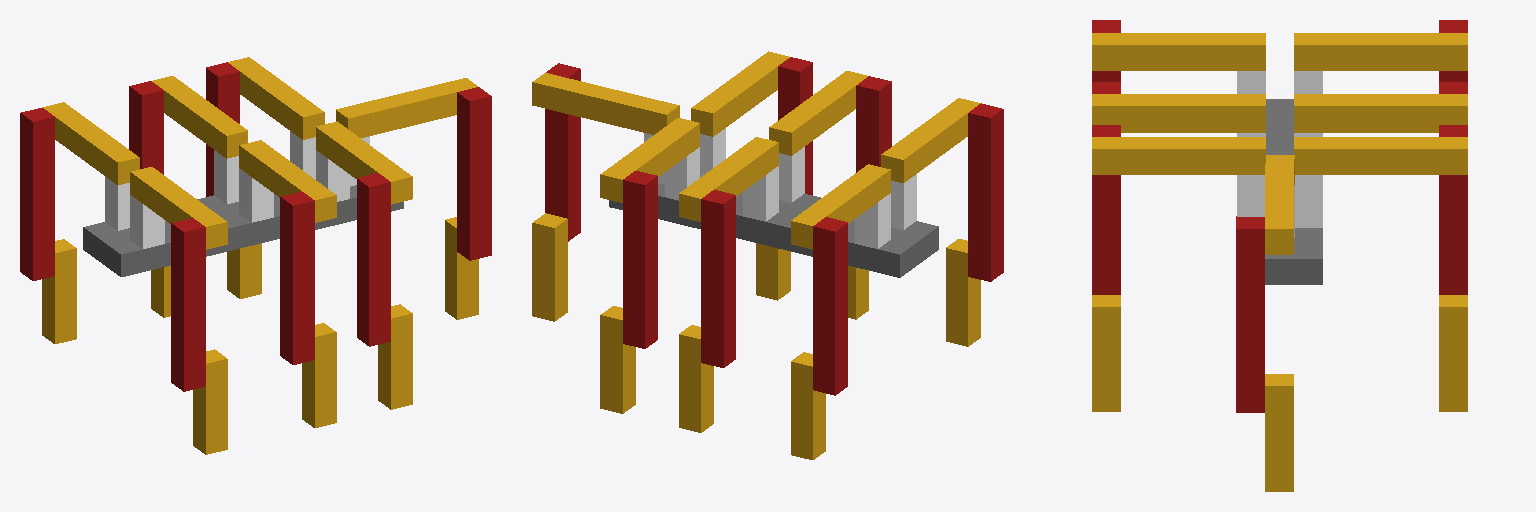
URDF robot description (v0):
<?xml version="1.0" encoding="utf-8"?>
<!-- =================================================================================== -->
<!-- |    This document was autogenerated by xacro from v0Seven.urdf.xacro             | -->
<!-- |    EDITING THIS FILE BY HAND IS NOT RECOMMENDED                                 | -->
<!-- =================================================================================== -->
<robot name="v0">
  <material name="grey">
    <color rgba="0.5 0.5 0.5 1"/>
  </material>
  <material name="white">
    <color rgba="1 1 1 1"/>
  </material>
  <material name="yellow">
    <color rgba="0.91 0.7 0.14 1"/>
  </material>
  <material name="red">
    <color rgba="0.71 0.14 0.14 1"/>
  </material>
  <link name="body">
    <visual>
      <geometry>
        <box size="1.3 0.3 0.1"/>
      </geometry>
      <material name="grey"/>
      <origin rpy="0 0 0" xyz="0 0 0.7"/>
    </visual>
    <collision>
      <geometry>
        <box size="1.3 0.3 0.1"/>
      </geometry>
      <origin rpy="0 0 0" xyz="0 0 0.7"/>
    </collision>
    <inertial>
      <mass value="99.84"/>
      <inertia ixx="0.832" ixy="0.0" ixz="0.0" iyy="14.144" iyz="0.0" izz="14.8096"/>
    </inertial>
  </link>
  <link name="l1_segment_1">
    <visual>
      <geometry>
        <box size="0.1 0.1 0.2"/>
      </geometry>
      <material name="white"/>
      <origin rpy="0 0 0" xyz="0 0 0.1"/>
    </visual>
    <collision>
      <geometry>
        <box size="0.1 0.1 0.2"/>
      </geometry>
      <origin rpy="0 0 0" xyz="0 0 0.1"/>
    </collision>
    <inertial>
      <mass value="5.12"/>
      <inertia ixx="0.0213333333333" ixy="0.0" ixz="0.0" iyy="0.0213333333333" iyz="0.0" izz="0.00853333333333"/>
    </inertial>
  </link>
  <joint name="l1_base_to_joint_1" type="fixed">
    <parent link="body"/>
    <child link="l1_segment_1"/>
    <origin rpy="0 0 0" xyz="0.35 0.1 .75"/>
  </joint>
  <link name="l1_segment_2_HIP">
    <visual>
      <geometry>
        <box size="0.1 0.6 0.1"/>
      </geometry>
      <material name="yellow"/>
      <origin rpy="0 0 0" xyz="0 0.25 0"/>
    </visual>
    <collision>
      <geometry>
        <box size="0.1 0.6 0.1"/>
      </geometry>
      <origin rpy="0 0 0" xyz="0 0.25 0"/>
    </collision>
    <inertial>
      <mass value="15.36"/>
      <inertia ixx="0.4736" ixy="0.0" ixz="0.0" iyy="0.0256" iyz="0.0" izz="0.4736"/>
    </inertial>
  </link>
  <joint name="l1_joint_1_to_2" type="revolute">
    <parent link="l1_segment_1"/>
    <child link="l1_segment_2_HIP"/>
    <origin rpy="0 0 0" xyz="0 0 0.25"/>
    <axis xyz="0.0 0.0 1.0"/>
    <limit effort="2048" lower="-1.2" upper="1.2" velocity="20"/>
  </joint>
  <link name="l1_segment_3_THIGH">
    <visual>
      <geometry>
        <box size="0.1 0.1 0.7"/>
      </geometry>
      <material name="red"/>
      <origin rpy="0 0 0" xyz="0 0 -0.3"/>
    </visual>
    <collision>
      <geometry>
        <box size="0.1 0.1 0.7"/>
      </geometry>
      <origin rpy="0 0 0" xyz="0 0 -0.3"/>
    </collision>
    <inertial>
      <mass value="17.92"/>
      <inertia ixx="0.746666666667" ixy="0.0" ixz="0.0" iyy="0.746666666667" iyz="0.0" izz="0.0298666666667"/>
    </inertial>
  </link>
  <joint name="l1_joint_2_to_3" type="revolute">
    <parent link="l1_segment_2_HIP"/>
    <child link="l1_segment_3_THIGH"/>
    <origin rpy="0 0 0" xyz="-0.1 0.5 0"/>
    <axis xyz="1.0 0.0 0.0"/>
    <limit effort="2048" lower="-0.2" upper="0.75" velocity="20"/>
  </joint>
  <link name="l1_segment_4_FOOT">
    <visual>
      <geometry>
        <box size="0.1 0.1 0.4"/>
      </geometry>
      <material name="yellow"/>
      <origin rpy="0 0 0" xyz="0 0 -0.2"/>
    </visual>
    <collision>
      <geometry>
        <box size="0.1 0.1 0.4"/>
      </geometry>
      <origin rpy="0 0 0" xyz="0 0 -0.2"/>
    </collision>
    <inertial>
      <mass value="10.24"/>
      <inertia ixx="0.145066666667" ixy="0.0" ixz="0.0" iyy="0.145066666667" iyz="0.0" izz="0.0170666666667"/>
    </inertial>
  </link>
  <joint name="l1_joint_3_to_4_FOOT" type="revolute">
    <parent link="l1_segment_3_THIGH"/>
    <child link="l1_segment_4_FOOT"/>
    <origin rpy="0 0 0" xyz="0.1 0 -0.55"/>
    <axis xyz="1.0 0.0 0.0"/>
    <limit effort="2048" lower="-0.2" upper="0.5" velocity="20"/>
  </joint>
  <link name="l2_segment_1">
    <visual>
      <geometry>
        <box size="0.1 0.1 0.2"/>
      </geometry>
      <material name="white"/>
      <origin rpy="0 0 0" xyz="0 0 0.1"/>
    </visual>
    <collision>
      <geometry>
        <box size="0.1 0.1 0.2"/>
      </geometry>
      <origin rpy="0 0 0" xyz="0 0 0.1"/>
    </collision>
    <inertial>
      <mass value="5.12"/>
      <inertia ixx="0.0213333333333" ixy="0.0" ixz="0.0" iyy="0.0213333333333" iyz="0.0" izz="0.00853333333333"/>
    </inertial>
  </link>
  <joint name="l2_base_to_joint_1" type="fixed">
    <parent link="body"/>
    <child link="l2_segment_1"/>
    <origin rpy="0 0 0" xyz="0 0.1 0.75"/>
  </joint>
  <link name="l2_segment_2_HIP">
    <visual>
      <geometry>
        <box size="0.1 0.6 0.1"/>
      </geometry>
      <material name="yellow"/>
      <origin rpy="0 0 0" xyz="0 0.25 0"/>
    </visual>
    <collision>
      <geometry>
        <box size="0.1 0.6 0.1"/>
      </geometry>
      <origin rpy="0 0 0" xyz="0 0.25 0"/>
    </collision>
    <inertial>
      <mass value="15.36"/>
      <inertia ixx="0.4736" ixy="0.0" ixz="0.0" iyy="0.0256" iyz="0.0" izz="0.4736"/>
    </inertial>
  </link>
  <joint name="l2_joint_1_to_2" type="revolute">
    <parent link="l2_segment_1"/>
    <child link="l2_segment_2_HIP"/>
    <origin rpy="0 0 0" xyz="0 0 0.25"/>
    <axis xyz="0.0 0.0 1.0"/>
    <limit effort="2048" lower="-1.2" upper="1.2" velocity="20"/>
  </joint>
  <link name="l2_segment_3_THIGH">
    <visual>
      <geometry>
        <box size="0.1 0.1 0.7"/>
      </geometry>
      <material name="red"/>
      <origin rpy="0 0 0" xyz="0 0 -0.3"/>
    </visual>
    <collision>
      <geometry>
        <box size="0.1 0.1 0.7"/>
      </geometry>
      <origin rpy="0 0 0" xyz="0 0 -0.3"/>
    </collision>
    <inertial>
      <mass value="17.92"/>
      <inertia ixx="0.746666666667" ixy="0.0" ixz="0.0" iyy="0.746666666667" iyz="0.0" izz="0.0298666666667"/>
    </inertial>
  </link>
  <joint name="l2_joint_2_to_3" type="revolute">
    <parent link="l2_segment_2_HIP"/>
    <child link="l2_segment_3_THIGH"/>
    <origin rpy="0 0 0" xyz="-0.1 0.5 0"/>
    <axis xyz="1.0 0.0 0.0"/>
    <limit effort="2048" lower="-0.2" upper="0.75" velocity="20"/>
  </joint>
  <link name="l2_segment_4_FOOT">
    <visual>
      <geometry>
        <box size="0.1 0.1 0.4"/>
      </geometry>
      <material name="yellow"/>
      <origin rpy="0 0 0" xyz="0 0 -0.2"/>
    </visual>
    <collision>
      <geometry>
        <box size="0.1 0.1 0.4"/>
      </geometry>
      <origin rpy="0 0 0" xyz="0 0 -0.2"/>
    </collision>
    <inertial>
      <mass value="10.24"/>
      <inertia ixx="0.145066666667" ixy="0.0" ixz="0.0" iyy="0.145066666667" iyz="0.0" izz="0.0170666666667"/>
    </inertial>
  </link>
  <joint name="l2_joint_3_to_4_FOOT" type="revolute">
    <parent link="l2_segment_3_THIGH"/>
    <child link="l2_segment_4_FOOT"/>
    <origin rpy="0 0 0" xyz="0.1 0 -0.55"/>
    <axis xyz="1.0 0.0 0.0"/>
    <limit effort="2048" lower="-0.2" upper="0.5" velocity="20"/>
  </joint>
  <link name="l3_segment_1">
    <visual>
      <geometry>
        <box size="0.1 0.1 0.2"/>
      </geometry>
      <material name="white"/>
      <origin rpy="0 0 0" xyz="0 0 0.1"/>
    </visual>
    <collision>
      <geometry>
        <box size="0.1 0.1 0.2"/>
      </geometry>
      <origin rpy="0 0 0" xyz="0 0 0.1"/>
    </collision>
    <inertial>
      <mass value="5.12"/>
      <inertia ixx="0.0213333333333" ixy="0.0" ixz="0.0" iyy="0.0213333333333" iyz="0.0" izz="0.00853333333333"/>
    </inertial>
  </link>
  <joint name="l3_base_to_joint_1" type="fixed">
    <parent link="body"/>
    <child link="l3_segment_1"/>
    <origin rpy="0 0 0" xyz="-0.5 0.1 .75"/>
  </joint>
  <link name="l3_segment_2_HIP">
    <visual>
      <geometry>
        <box size="0.1 0.6 0.1"/>
      </geometry>
      <material name="yellow"/>
      <origin rpy="0 0 0" xyz="0 0.25 0"/>
    </visual>
    <collision>
      <geometry>
        <box size="0.1 0.6 0.1"/>
      </geometry>
      <origin rpy="0 0 0" xyz="0 0.25 0"/>
    </collision>
    <inertial>
      <mass value="15.36"/>
      <inertia ixx="0.4736" ixy="0.0" ixz="0.0" iyy="0.0256" iyz="0.0" izz="0.4736"/>
    </inertial>
  </link>
  <joint name="l3_joint_1_to_2" type="revolute">
    <parent link="l3_segment_1"/>
    <child link="l3_segment_2_HIP"/>
    <origin rpy="0 0 0" xyz="0 0 0.25"/>
    <axis xyz="0.0 0.0 1.0"/>
    <limit effort="2048" lower="-1.2" upper="1.2" velocity="20"/>
  </joint>
  <link name="l3_segment_3_THIGH">
    <visual>
      <geometry>
        <box size="0.1 0.1 0.7"/>
      </geometry>
      <material name="red"/>
      <origin rpy="0 0 0" xyz="0 0 -0.3"/>
    </visual>
    <collision>
      <geometry>
        <box size="0.1 0.1 0.7"/>
      </geometry>
      <origin rpy="0 0 0" xyz="0 0 -0.3"/>
    </collision>
    <inertial>
      <mass value="17.92"/>
      <inertia ixx="0.746666666667" ixy="0.0" ixz="0.0" iyy="0.746666666667" iyz="0.0" izz="0.0298666666667"/>
    </inertial>
  </link>
  <joint name="l3_joint_2_to_3" type="revolute">
    <parent link="l3_segment_2_HIP"/>
    <child link="l3_segment_3_THIGH"/>
    <origin rpy="0 0 0" xyz="-0.1 0.5 0"/>
    <axis xyz="1.0 0.0 0.0"/>
    <limit effort="2048" lower="-0.2" upper="0.75" velocity="20"/>
  </joint>
  <link name="l3_segment_4_FOOT">
    <visual>
      <geometry>
        <box size="0.1 0.1 0.4"/>
      </geometry>
      <material name="yellow"/>
      <origin rpy="0 0 0" xyz="0 0 -0.2"/>
    </visual>
    <collision>
      <geometry>
        <box size="0.1 0.1 0.4"/>
      </geometry>
      <origin rpy="0 0 0" xyz="0 0 -0.2"/>
    </collision>
    <inertial>
      <mass value="10.24"/>
      <inertia ixx="0.145066666667" ixy="0.0" ixz="0.0" iyy="0.145066666667" iyz="0.0" izz="0.0170666666667"/>
    </inertial>
  </link>
  <joint name="l3_joint_3_to_4_FOOT" type="revolute">
    <parent link="l3_segment_3_THIGH"/>
    <child link="l3_segment_4_FOOT"/>
    <origin rpy="0 0 0" xyz="0.1 0 -0.55"/>
    <axis xyz="1.0 0.0 0.0"/>
    <limit effort="2048" lower="-0.2" upper="0.5" velocity="20"/>
  </joint>
  <link name="r1_segment_1">
    <visual>
      <geometry>
        <box size="0.1 0.1 0.2"/>
      </geometry>
      <material name="white"/>
      <origin rpy="0 0 0" xyz="0 0 0.1"/>
    </visual>
    <collision>
      <geometry>
        <box size="0.1 0.1 0.2"/>
      </geometry>
      <origin rpy="0 0 0" xyz="0 0 0.1"/>
    </collision>
    <inertial>
      <mass value="5.12"/>
      <inertia ixx="0.0213333333333" ixy="0.0" ixz="0.0" iyy="0.0213333333333" iyz="0.0" izz="0.00853333333333"/>
    </inertial>
  </link>
  <joint name="r1_base_to_joint_1" type="fixed">
    <parent link="body"/>
    <child link="r1_segment_1"/>
    <origin rpy="0 0 0" xyz="0.35 -0.1 .75"/>
  </joint>
  <link name="r1_segment_2_HIP">
    <visual>
      <geometry>
        <box size="0.1 0.6 0.1"/>
      </geometry>
      <material name="yellow"/>
      <origin rpy="0 0 0" xyz="0 -0.25 0"/>
    </visual>
    <collision>
      <geometry>
        <box size="0.1 0.6 0.1"/>
      </geometry>
      <origin rpy="0 0 0" xyz="0 -0.25 0"/>
    </collision>
    <inertial>
      <mass value="15.36"/>
      <inertia ixx="0.4736" ixy="0.0" ixz="0.0" iyy="0.0256" iyz="0.0" izz="0.4736"/>
    </inertial>
  </link>
  <joint name="r1_joint_1_to_2" type="revolute">
    <parent link="r1_segment_1"/>
    <child link="r1_segment_2_HIP"/>
    <origin rpy="0 0 0" xyz="0 0 0.25"/>
    <axis xyz="0.0 0.0 1.0"/>
    <limit effort="2048" lower="-1.2" upper="1.2" velocity="20"/>
  </joint>
  <link name="r1_segment_3_THIGH">
    <visual>
      <geometry>
        <box size="0.1 0.1 0.7"/>
      </geometry>
      <material name="red"/>
      <origin rpy="0 0 0" xyz="0 0 -0.3"/>
    </visual>
    <collision>
      <geometry>
        <box size="0.1 0.1 0.7"/>
      </geometry>
      <origin rpy="0 0 0" xyz="0 0 -0.3"/>
    </collision>
    <inertial>
      <mass value="17.92"/>
      <inertia ixx="0.746666666667" ixy="0.0" ixz="0.0" iyy="0.746666666667" iyz="0.0" izz="0.0298666666667"/>
    </inertial>
  </link>
  <joint name="r1_joint_2_to_3" type="revolute">
    <parent link="r1_segment_2_HIP"/>
    <child link="r1_segment_3_THIGH"/>
    <origin rpy="0 0 0" xyz="-0.1 -0.5 0"/>
    <axis xyz="1.0 0.0 0.0"/>
    <limit effort="2048" lower="-0.75" upper="0.2" velocity="20"/>
  </joint>
  <link name="r1_segment_4_FOOT">
    <visual>
      <geometry>
        <box size="0.1 0.1 0.4"/>
      </geometry>
      <material name="yellow"/>
      <origin rpy="0 0 0" xyz="0 0 -0.2"/>
    </visual>
    <collision>
      <geometry>
        <box size="0.1 0.1 0.4"/>
      </geometry>
      <origin rpy="0 0 0" xyz="0 0 -0.2"/>
    </collision>
    <inertial>
      <mass value="10.24"/>
      <inertia ixx="0.145066666667" ixy="0.0" ixz="0.0" iyy="0.145066666667" iyz="0.0" izz="0.0170666666667"/>
    </inertial>
  </link>
  <joint name="r1_joint_3_to_4_FOOT" type="revolute">
    <parent link="r1_segment_3_THIGH"/>
    <child link="r1_segment_4_FOOT"/>
    <origin rpy="0 0 0" xyz="0.1 0 -0.55"/>
    <axis xyz="1.0 0.0 0.0"/>
    <limit effort="2048" lower="-0.5" upper="0.2" velocity="20"/>
  </joint>
  <link name="r2_segment_1">
    <visual>
      <geometry>
        <box size="0.1 0.1 0.2"/>
      </geometry>
      <material name="white"/>
      <origin rpy="0 0 0" xyz="0 0 0.1"/>
    </visual>
    <collision>
      <geometry>
        <box size="0.1 0.1 0.2"/>
      </geometry>
      <origin rpy="0 0 0" xyz="0 0 0.1"/>
    </collision>
    <inertial>
      <mass value="5.12"/>
      <inertia ixx="0.0213333333333" ixy="0.0" ixz="0.0" iyy="0.0213333333333" iyz="0.0" izz="0.00853333333333"/>
    </inertial>
  </link>
  <joint name="r2_base_to_joint_1" type="fixed">
    <parent link="body"/>
    <child link="r2_segment_1"/>
    <origin rpy="0 0 0" xyz="0 -0.1 0.75"/>
  </joint>
  <link name="r2_segment_2_HIP">
    <visual>
      <geometry>
        <box size="0.1 0.6 0.1"/>
      </geometry>
      <material name="yellow"/>
      <origin rpy="0 0 0" xyz="0 -0.25 0"/>
    </visual>
    <collision>
      <geometry>
        <box size="0.1 0.6 0.1"/>
      </geometry>
      <origin rpy="0 0 0" xyz="0 -0.25 0"/>
    </collision>
    <inertial>
      <mass value="15.36"/>
      <inertia ixx="0.4736" ixy="0.0" ixz="0.0" iyy="0.0256" iyz="0.0" izz="0.4736"/>
    </inertial>
  </link>
  <joint name="r2_joint_1_to_2" type="revolute">
    <parent link="r2_segment_1"/>
    <child link="r2_segment_2_HIP"/>
    <origin rpy="0 0 0" xyz="0 0 0.25"/>
    <axis xyz="0.0 0.0 1.0"/>
    <limit effort="2048" lower="-1.2" upper="1.2" velocity="20"/>
  </joint>
  <link name="r2_segment_3_THIGH">
    <visual>
      <geometry>
        <box size="0.1 0.1 0.7"/>
      </geometry>
      <material name="red"/>
      <origin rpy="0 0 0" xyz="0 0 -0.3"/>
    </visual>
    <collision>
      <geometry>
        <box size="0.1 0.1 0.7"/>
      </geometry>
      <origin rpy="0 0 0" xyz="0 0 -0.3"/>
    </collision>
    <inertial>
      <mass value="17.92"/>
      <inertia ixx="0.746666666667" ixy="0.0" ixz="0.0" iyy="0.746666666667" iyz="0.0" izz="0.0298666666667"/>
    </inertial>
  </link>
  <joint name="r2_joint_2_to_3" type="revolute">
    <parent link="r2_segment_2_HIP"/>
    <child link="r2_segment_3_THIGH"/>
    <origin rpy="0 0 0" xyz="-0.1 -0.5 0"/>
    <axis xyz="1.0 0.0 0.0"/>
    <limit effort="2048" lower="-0.75" upper="0.2" velocity="20"/>
  </joint>
  <link name="r2_segment_4_FOOT">
    <visual>
      <geometry>
        <box size="0.1 0.1 0.4"/>
      </geometry>
      <material name="yellow"/>
      <origin rpy="0 0 0" xyz="0 0 -0.2"/>
    </visual>
    <collision>
      <geometry>
        <box size="0.1 0.1 0.4"/>
      </geometry>
      <origin rpy="0 0 0" xyz="0 0 -0.2"/>
    </collision>
    <inertial>
      <mass value="10.24"/>
      <inertia ixx="0.145066666667" ixy="0.0" ixz="0.0" iyy="0.145066666667" iyz="0.0" izz="0.0170666666667"/>
    </inertial>
  </link>
  <joint name="r2_joint_3_to_4_FOOT" type="revolute">
    <parent link="r2_segment_3_THIGH"/>
    <child link="r2_segment_4_FOOT"/>
    <origin rpy="0 0 0" xyz="0.1 0 -0.55"/>
    <axis xyz="1.0 0.0 0.0"/>
    <limit effort="2048" lower="-0.5" upper="0.2" velocity="20"/>
  </joint>
  <link name="r3_segment_1">
    <visual>
      <geometry>
        <box size="0.1 0.1 0.2"/>
      </geometry>
      <material name="white"/>
      <origin rpy="0 0 0" xyz="0 0 0.1"/>
    </visual>
    <collision>
      <geometry>
        <box size="0.1 0.1 0.2"/>
      </geometry>
      <origin rpy="0 0 0" xyz="0 0 0.1"/>
    </collision>
    <inertial>
      <mass value="5.12"/>
      <inertia ixx="0.0213333333333" ixy="0.0" ixz="0.0" iyy="0.0213333333333" iyz="0.0" izz="0.00853333333333"/>
    </inertial>
  </link>
  <joint name="r3_base_to_joint_1" type="fixed">
    <parent link="body"/>
    <child link="r3_segment_1"/>
    <origin rpy="0 0 0" xyz="-0.5 -0.1 .75"/>
  </joint>
  <link name="r3_segment_2_HIP">
    <visual>
      <geometry>
        <box size="0.1 0.6 0.1"/>
      </geometry>
      <material name="yellow"/>
      <origin rpy="0 0 0" xyz="0 -0.25 0"/>
    </visual>
    <collision>
      <geometry>
        <box size="0.1 0.6 0.1"/>
      </geometry>
      <origin rpy="0 0 0" xyz="0 -0.25 0"/>
    </collision>
    <inertial>
      <mass value="15.36"/>
      <inertia ixx="0.4736" ixy="0.0" ixz="0.0" iyy="0.0256" iyz="0.0" izz="0.4736"/>
    </inertial>
  </link>
  <joint name="r3_joint_1_to_2" type="revolute">
    <parent link="r3_segment_1"/>
    <child link="r3_segment_2_HIP"/>
    <origin rpy="0 0 0" xyz="0 0 0.25"/>
    <axis xyz="0.0 0.0 1.0"/>
    <limit effort="2048" lower="-1.2" upper="1.2" velocity="20"/>
  </joint>
  <link name="r3_segment_3_THIGH">
    <visual>
      <geometry>
        <box size="0.1 0.1 0.7"/>
      </geometry>
      <material name="red"/>
      <origin rpy="0 0 0" xyz="0 0 -0.3"/>
    </visual>
    <collision>
      <geometry>
        <box size="0.1 0.1 0.7"/>
      </geometry>
      <origin rpy="0 0 0" xyz="0 0 -0.3"/>
    </collision>
    <inertial>
      <mass value="17.92"/>
      <inertia ixx="0.746666666667" ixy="0.0" ixz="0.0" iyy="0.746666666667" iyz="0.0" izz="0.0298666666667"/>
    </inertial>
  </link>
  <joint name="r3_joint_2_to_3" type="revolute">
    <parent link="r3_segment_2_HIP"/>
    <child link="r3_segment_3_THIGH"/>
    <origin rpy="0 0 0" xyz="-0.1 -0.5 0"/>
    <axis xyz="1.0 0.0 0.0"/>
    <limit effort="2048" lower="-0.75" upper="0.2" velocity="20"/>
  </joint>
  <link name="r3_segment_4_FOOT">
    <visual>
      <geometry>
        <box size="0.1 0.1 0.4"/>
      </geometry>
      <material name="yellow"/>
      <origin rpy="0 0 0" xyz="0 0 -0.2"/>
    </visual>
    <collision>
      <geometry>
        <box size="0.1 0.1 0.4"/>
      </geometry>
      <origin rpy="0 0 0" xyz="0 0 -0.2"/>
    </collision>
    <inertial>
      <mass value="10.24"/>
      <inertia ixx="0.145066666667" ixy="0.0" ixz="0.0" iyy="0.145066666667" iyz="0.0" izz="0.0170666666667"/>
    </inertial>
  </link>
  <joint name="r3_joint_3_to_4_FOOT" type="revolute">
    <parent link="r3_segment_3_THIGH"/>
    <child link="r3_segment_4_FOOT"/>
    <origin rpy="0 0 0" xyz="0.1 0 -0.55"/>
    <axis xyz="1.0 0.0 0.0"/>
    <limit effort="2048" lower="-0.5" upper="0.2" velocity="20"/>
  </joint>
  <link name="r4_segment_1">
    <visual>
      <geometry>
        <box size="0.1 0.1 0.2"/>
      </geometry>
      <material name="white"/>
      <origin rpy="0 0 0" xyz="0 0 0.1"/>
    </visual>
    <collision>
      <geometry>
        <box size="0.1 0.1 0.2"/>
      </geometry>
      <origin rpy="0 0 0" xyz="0 0 0.1"/>
    </collision>
    <inertial>
      <mass value="5.12"/>
      <inertia ixx="0.0213333333333" ixy="0.0" ixz="0.0" iyy="0.0213333333333" iyz="0.0" izz="0.00853333333333"/>
    </inertial>
  </link>
  <joint name="r4_base_to_joint_1" type="fixed">
    <parent link="body"/>
    <child link="r4_segment_1"/>
    <origin rpy="0 0 1.57" xyz="0.5 -0. .75"/>
  </joint>
  <link name="r4_segment_2_HIP">
    <visual>
      <geometry>
        <box size="0.1 0.6 0.1"/>
      </geometry>
      <material name="yellow"/>
      <origin rpy="0 0 0" xyz="0 -0.25 0"/>
    </visual>
    <collision>
      <geometry>
        <box size="0.1 0.6 0.1"/>
      </geometry>
      <origin rpy="0 0 0" xyz="0 -0.25 0"/>
    </collision>
    <inertial>
      <mass value="15.36"/>
      <inertia ixx="0.4736" ixy="0.0" ixz="0.0" iyy="0.0256" iyz="0.0" izz="0.4736"/>
    </inertial>
  </link>
  <joint name="r4_joint_1_to_2" type="revolute">
    <parent link="r4_segment_1"/>
    <child link="r4_segment_2_HIP"/>
    <origin rpy="0 0 0" xyz="0 0 0.25"/>
    <axis xyz="0.0 0.0 1.0"/>
    <limit effort="2048" lower="-1.2" upper="1.2" velocity="20"/>
  </joint>
  <link name="r4_segment_3_THIGH">
    <visual>
      <geometry>
        <box size="0.1 0.1 0.7"/>
      </geometry>
      <material name="red"/>
      <origin rpy="0 0 0" xyz="0 0 -0.3"/>
    </visual>
    <collision>
      <geometry>
        <box size="0.1 0.1 0.7"/>
      </geometry>
      <origin rpy="0 0 0" xyz="0 0 -0.3"/>
    </collision>
    <inertial>
      <mass value="17.92"/>
      <inertia ixx="0.746666666667" ixy="0.0" ixz="0.0" iyy="0.746666666667" iyz="0.0" izz="0.0298666666667"/>
    </inertial>
  </link>
  <joint name="r4_joint_2_to_3" type="revolute">
    <parent link="r4_segment_2_HIP"/>
    <child link="r4_segment_3_THIGH"/>
    <origin rpy="0 0 0" xyz="-0.1 -0.5 0"/>
    <axis xyz="1.0 0.0 0.0"/>
    <limit effort="2048" lower="-0.75" upper="0.2" velocity="20"/>
  </joint>
  <link name="r4_segment_4_FOOT">
    <visual>
      <geometry>
        <box size="0.1 0.1 0.4"/>
      </geometry>
      <material name="yellow"/>
      <origin rpy="0 0 0" xyz="0 0 -0.2"/>
    </visual>
    <collision>
      <geometry>
        <box size="0.1 0.1 0.4"/>
      </geometry>
      <origin rpy="0 0 0" xyz="0 0 -0.2"/>
    </collision>
    <inertial>
      <mass value="10.24"/>
      <inertia ixx="0.145066666667" ixy="0.0" ixz="0.0" iyy="0.145066666667" iyz="0.0" izz="0.0170666666667"/>
    </inertial>
  </link>
  <joint name="r4_joint_3_to_4_FOOT" type="revolute">
    <parent link="r4_segment_3_THIGH"/>
    <child link="r4_segment_4_FOOT"/>
    <origin rpy="0 0 0" xyz="0.1 0 -0.55"/>
    <axis xyz="1.0 0.0 0.0"/>
    <limit effort="2048" lower="-0.5" upper="0.2" velocity="20"/>
  </joint>
</robot>

--- What the picture shows (computed from the rendered views, not written in the file) ---
3 views of the same robot in one strip: view 1: azimuth 30°, elevation 25°; view 2: azimuth 150°, elevation 25°; view 3: azimuth 270°, elevation 25° (orthographic).
Robot: v0 — 29 links, 28 joints (21 revolute, 7 fixed); root link body; default pose: every joint at zero.
Links seen in each view (by area): view 1: body, r4_segment_3_THIGH, r2_segment_3_THIGH, r3_segment_3_THIGH, l3_segment_3_THIGH, r1_segment_3_THIGH, r4_segment_2_HIP, l1_segment_2_HIP, l3_segment_2_HIP, l2_segment_2_HIP, r3_segment_2_HIP, r2_segment_2_HIP (+16 smaller); view 2: body, r3_segment_3_THIGH, l3_segment_3_THIGH, l1_segment_3_THIGH, l2_segment_3_THIGH, r4_segment_2_HIP, r4_segment_3_THIGH, r4_segment_4_FOOT, r1_segment_2_HIP, r3_segment_2_HIP, r2_segment_2_HIP, l1_segment_2_HIP (+16 smaller); view 3: l3_segment_2_HIP, r3_segment_2_HIP, r1_segment_2_HIP, l1_segment_2_HIP, l2_segment_2_HIP, r2_segment_2_HIP, r4_segment_3_THIGH, body, l1_segment_3_THIGH, r1_segment_3_THIGH, r4_segment_4_FOOT, l1_segment_4_FOOT (+8 smaller).
Boxes of the visible links, box(x1,y1,x2,y2) form: body: box(83, 185, 403, 276); r4_segment_3_THIGH: box(457, 87, 491, 260); r2_segment_3_THIGH: box(280, 191, 314, 364); r3_segment_3_THIGH: box(171, 218, 205, 391); l3_segment_3_THIGH: box(20, 108, 54, 280); r1_segment_3_THIGH: box(357, 173, 390, 346); r4_segment_2_HIP: box(336, 78, 477, 137); l1_segment_2_HIP: box(228, 57, 324, 139); l3_segment_2_HIP: box(42, 102, 139, 184); l2_segment_2_HIP: box(152, 76, 247, 158); r3_segment_2_HIP: box(130, 167, 227, 249); r2_segment_2_HIP: box(239, 140, 336, 222); body: box(609, 183, 938, 277); r3_segment_3_THIGH: box(968, 103, 1003, 281); l3_segment_3_THIGH: box(813, 217, 847, 395); l1_segment_3_THIGH: box(623, 171, 657, 348); l2_segment_3_THIGH: box(701, 190, 735, 367); r4_segment_2_HIP: box(532, 73, 679, 134); r4_segment_3_THIGH: box(545, 63, 580, 241); r4_segment_4_FOOT: box(532, 213, 567, 321); r1_segment_2_HIP: box(691, 51, 789, 136); r3_segment_2_HIP: box(881, 98, 980, 182); r2_segment_2_HIP: box(769, 71, 867, 155); l1_segment_2_HIP: box(600, 118, 699, 202); l3_segment_2_HIP: box(1294, 33, 1467, 70); r3_segment_2_HIP: box(1092, 33, 1265, 70); r1_segment_2_HIP: box(1092, 137, 1265, 174); l1_segment_2_HIP: box(1294, 137, 1467, 174); l2_segment_2_HIP: box(1294, 94, 1467, 132); r2_segment_2_HIP: box(1092, 94, 1265, 132); r4_segment_3_THIGH: box(1236, 216, 1264, 412); body: box(1265, 99, 1322, 284); l1_segment_3_THIGH: box(1439, 125, 1467, 294); r1_segment_3_THIGH: box(1092, 125, 1120, 294); r4_segment_4_FOOT: box(1265, 374, 1293, 491); l1_segment_4_FOOT: box(1439, 295, 1467, 411).
Bounding box of the posed robot: 1.7 × 1.3 × 1 m (x, y, z).
Geometry: primitives only (box / cylinder / sphere), no mesh files.
